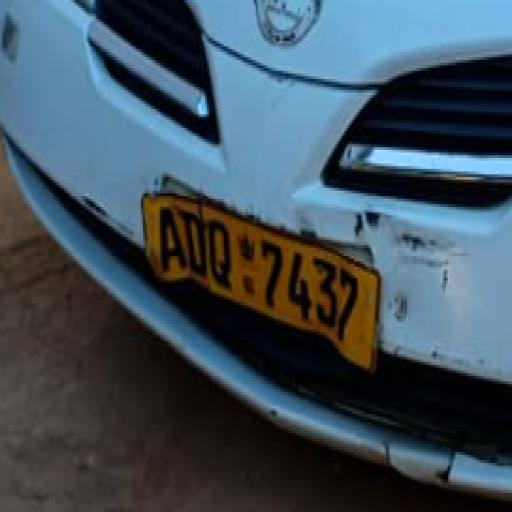number-plates: (144, 188, 374, 343)
